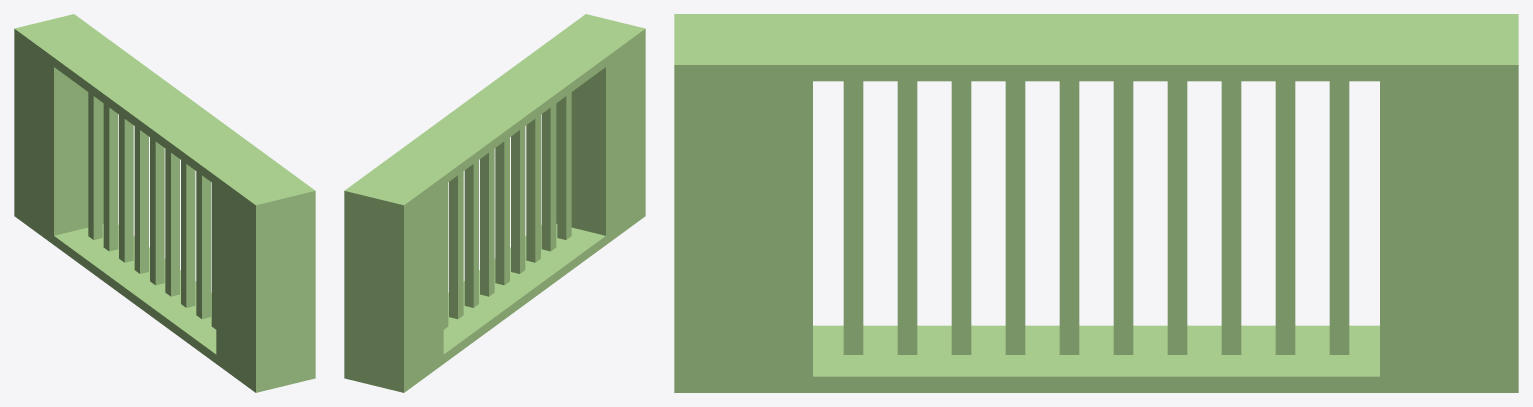
Rendered from blockade.dae.
3 views of the same model, side by side, from view 1: azimuth 30°, elevation 25°; view 2: azimuth 150°, elevation 25°; view 3: azimuth 270°, elevation 25° (orthographic). The views are drawn at different scales.
Parts seen in each view (by area): view 1: Box01; view 2: Box01; view 3: Box01.
Part boxes in pixels (x1=…): Box01: x1=14, y1=14, x2=315, y2=392; Box01: x1=344, y1=14, x2=645, y2=392; Box01: x1=674, y1=14, x2=1518, y2=392.
Size of the model in its own units: 39.37 by 276 by 118.
